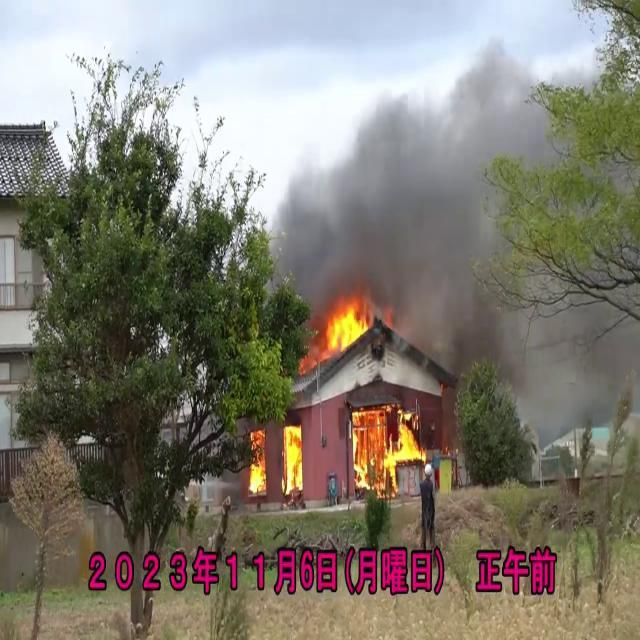Fire: (352, 404, 424, 504), (310, 292, 378, 362), (283, 423, 305, 497)
Smoke: (260, 38, 546, 332)
